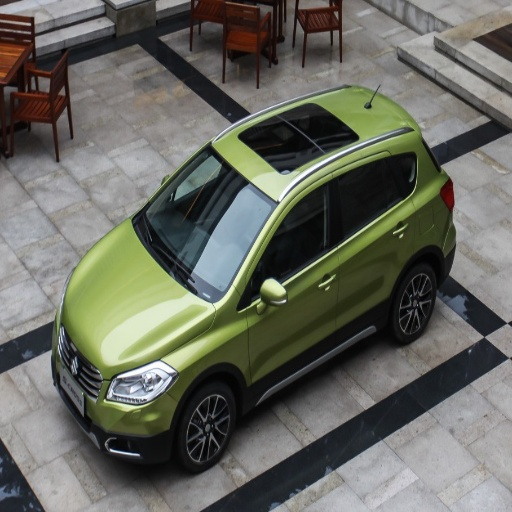back_left_door: (334, 146, 415, 317)
front_bumper: (61, 369, 177, 463)
front_glass: (141, 171, 272, 301)
front_left_door: (242, 165, 340, 395)
